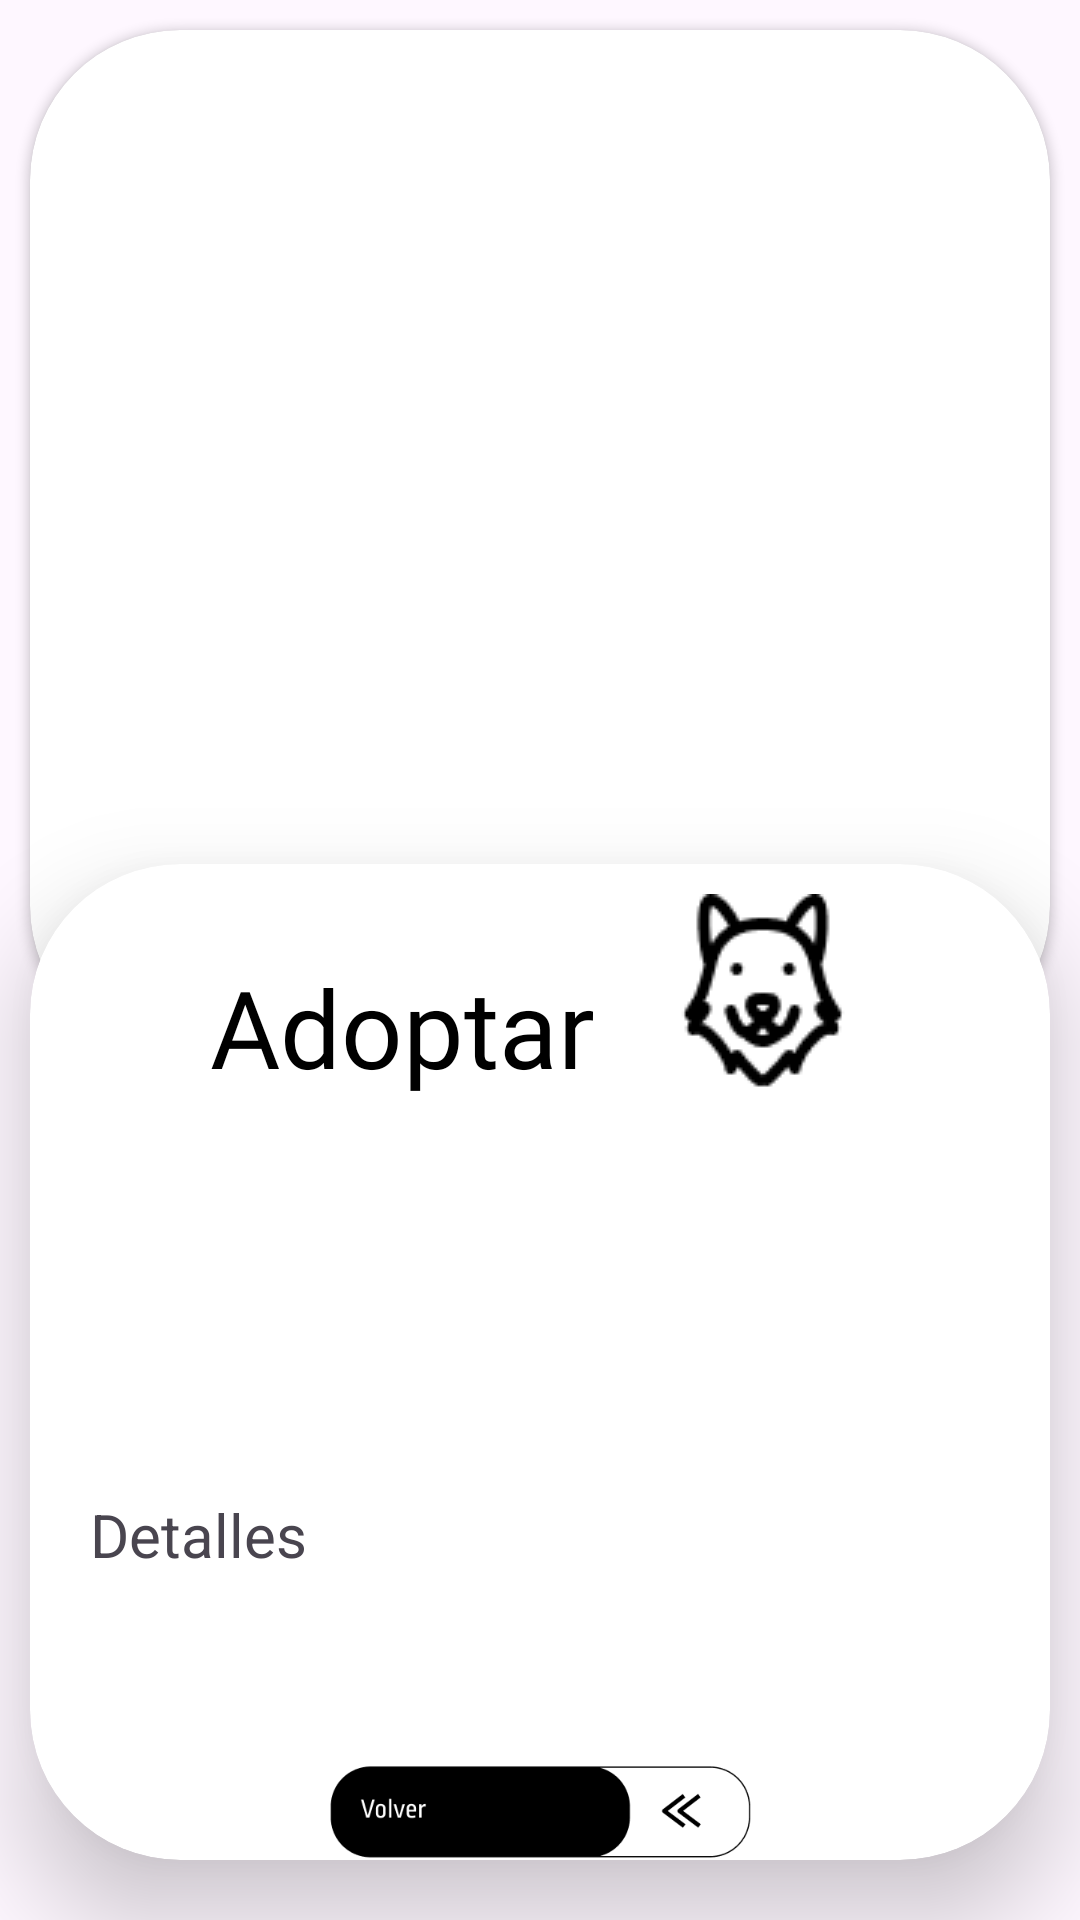

Screen size 1080x1920. Icon name, then its box in pixels as detection(x1, y1, x2, y2):
dog: detection(684, 894, 842, 1087)
